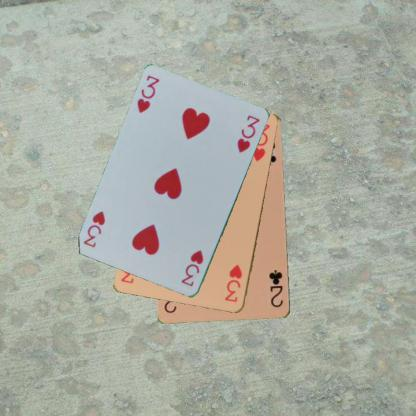2c: (266, 268, 284, 308)
3h: (134, 73, 161, 115), (179, 248, 205, 288), (222, 262, 244, 304)
